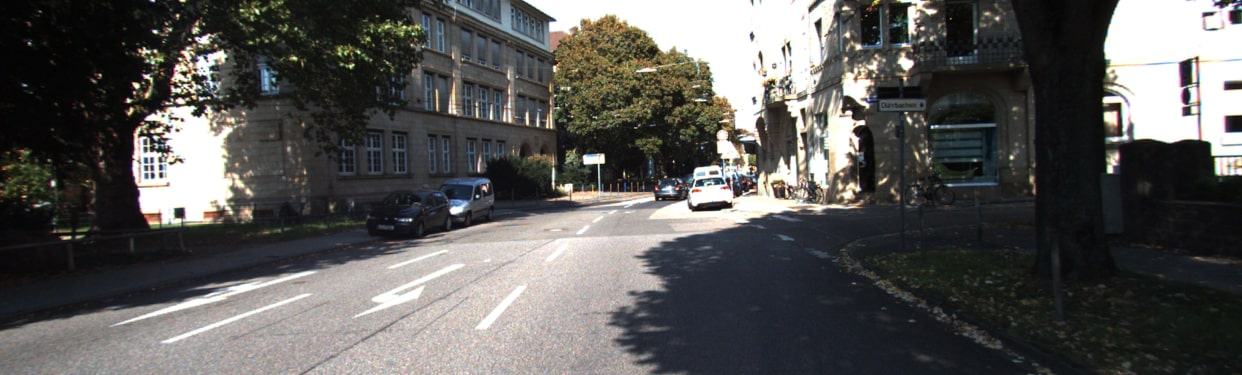car: (358, 185, 450, 240), (452, 172, 497, 229), (690, 176, 736, 209), (648, 173, 684, 205)
